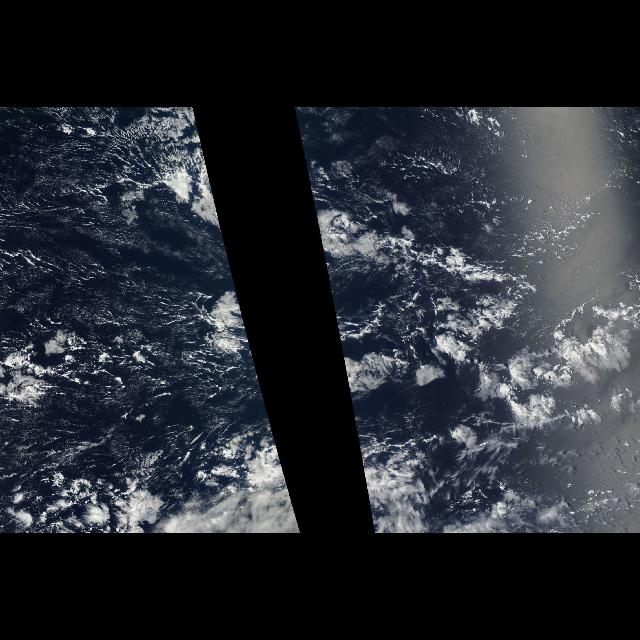Fish: (350, 267, 638, 425)
Gravel: (1, 282, 258, 432), (408, 148, 618, 244)
Sugar: (0, 110, 252, 474), (436, 280, 630, 440)
